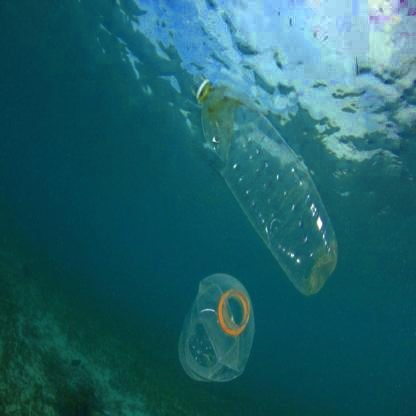pbottle: (185, 52, 341, 305), (174, 267, 258, 384)
